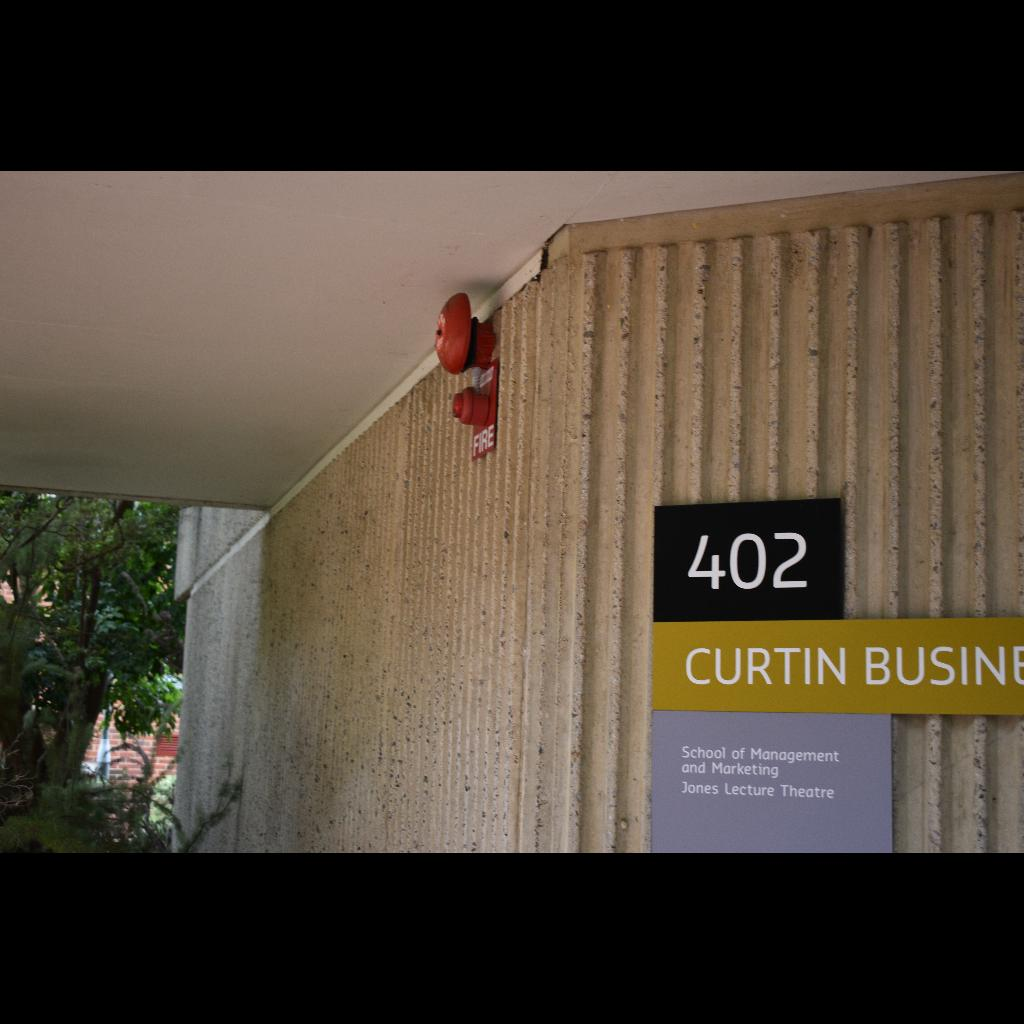BuildingCodes: (684, 526, 812, 596)
